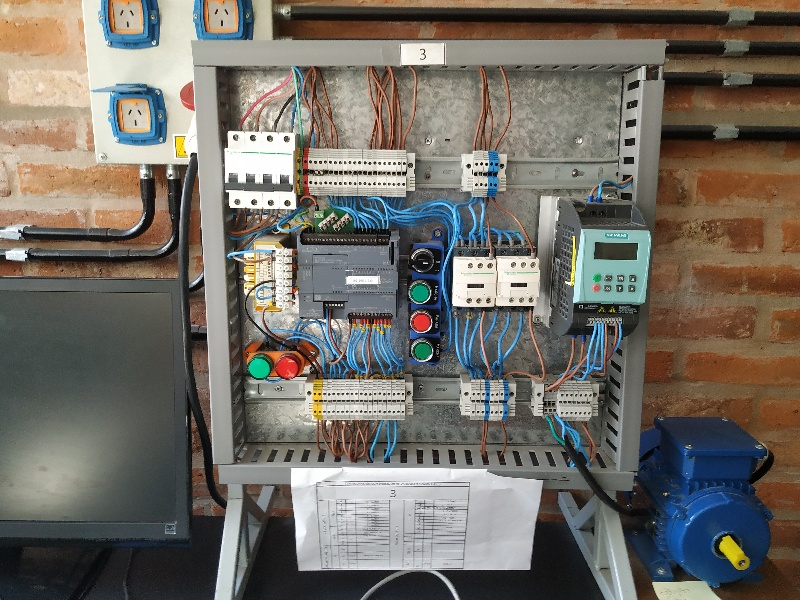Tablero 3: (194, 44, 652, 490)
